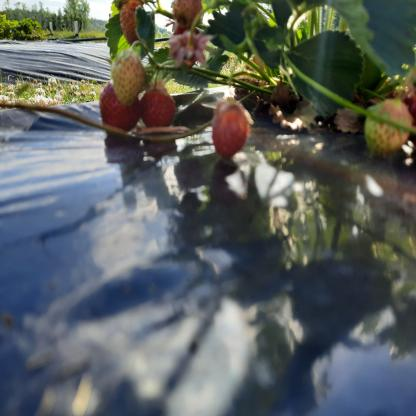ripe: (214, 104, 247, 151), (103, 96, 136, 131), (146, 96, 174, 127)
unripe: (365, 99, 415, 155), (111, 58, 147, 97), (124, 1, 144, 45)
